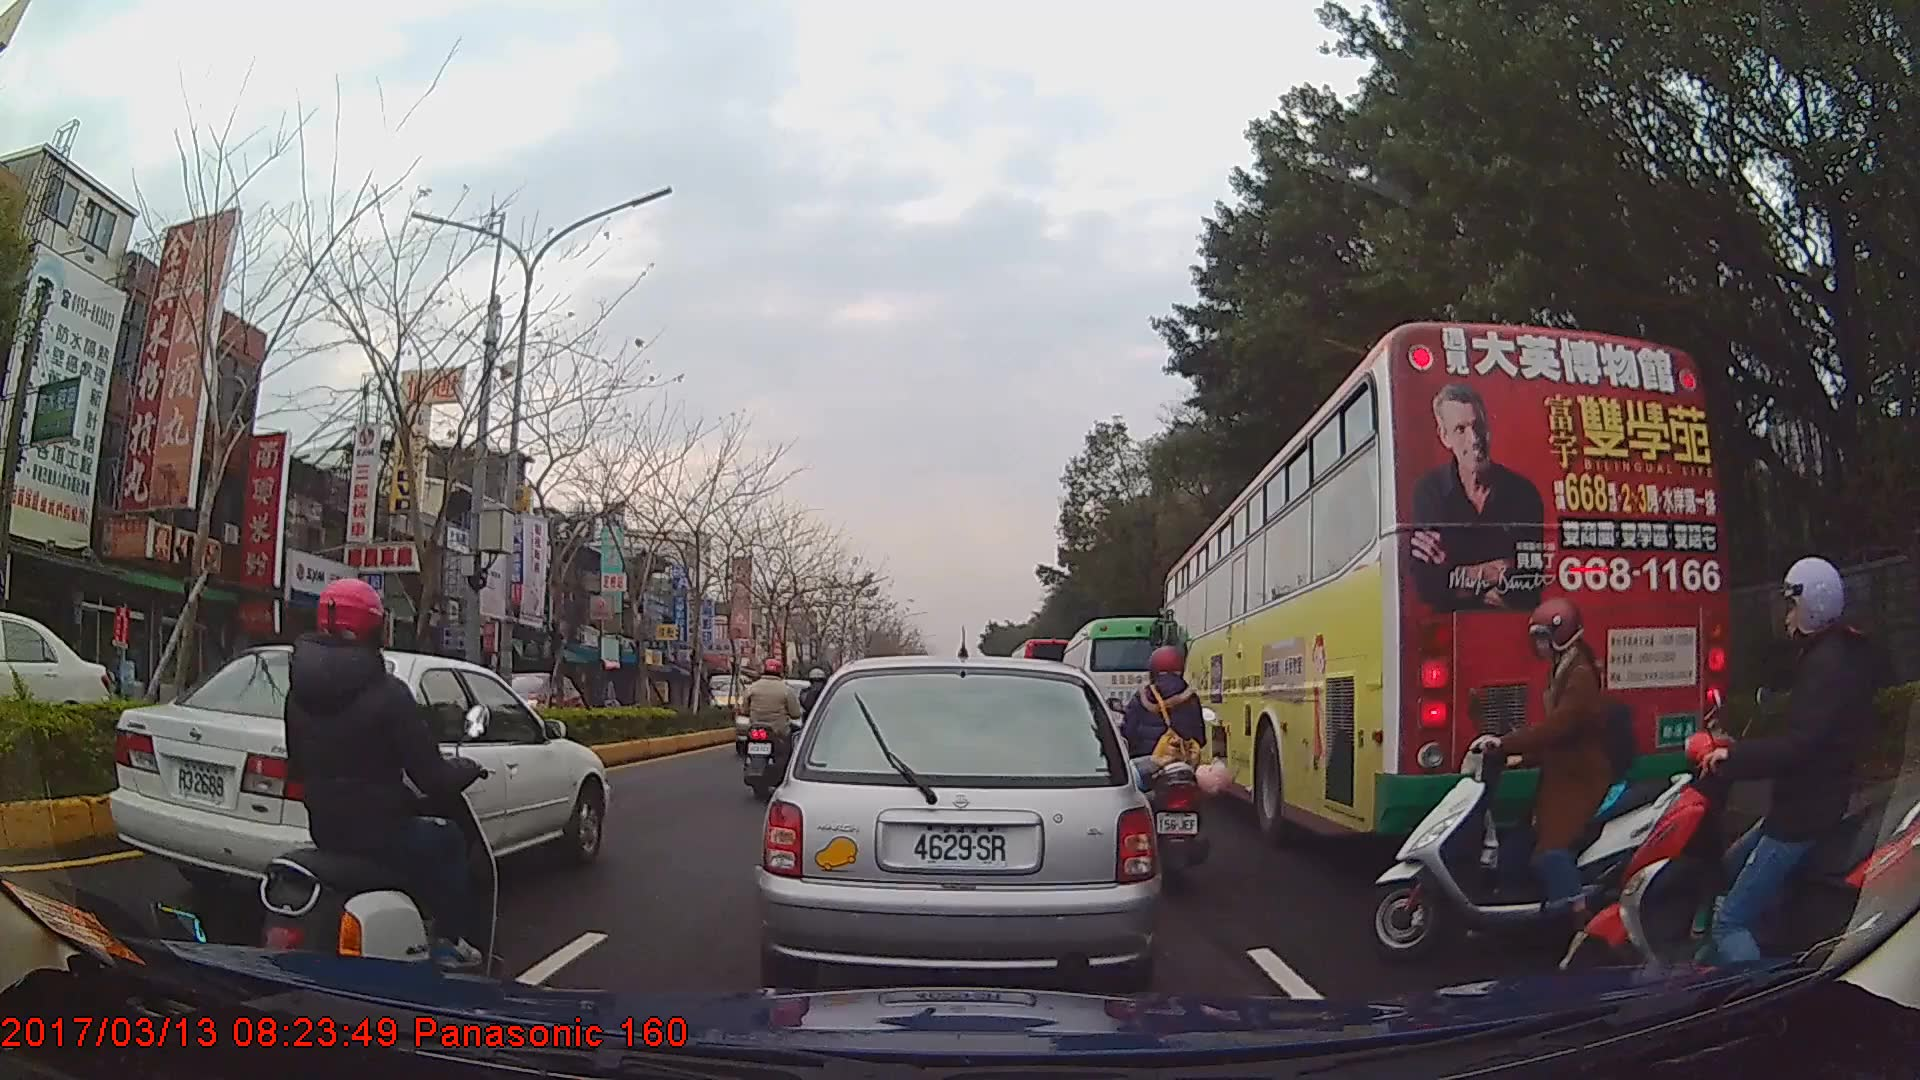rider: (1585, 558, 1920, 1012), (1357, 593, 1707, 970), (255, 574, 502, 988), (1112, 648, 1232, 886), (741, 658, 801, 803)
vehicle: (1159, 319, 1730, 846), (105, 637, 611, 914), (751, 656, 1161, 990), (0, 611, 123, 760), (1059, 615, 1173, 756), (475, 669, 582, 738)
